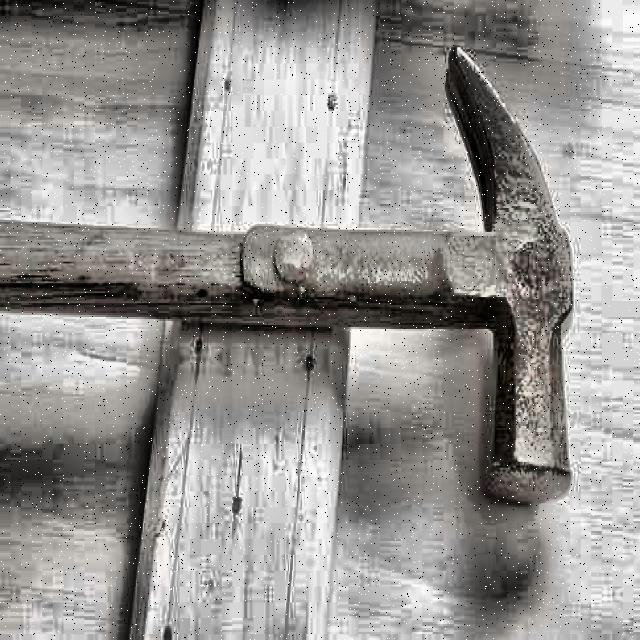hammer: (0, 49, 574, 507)
